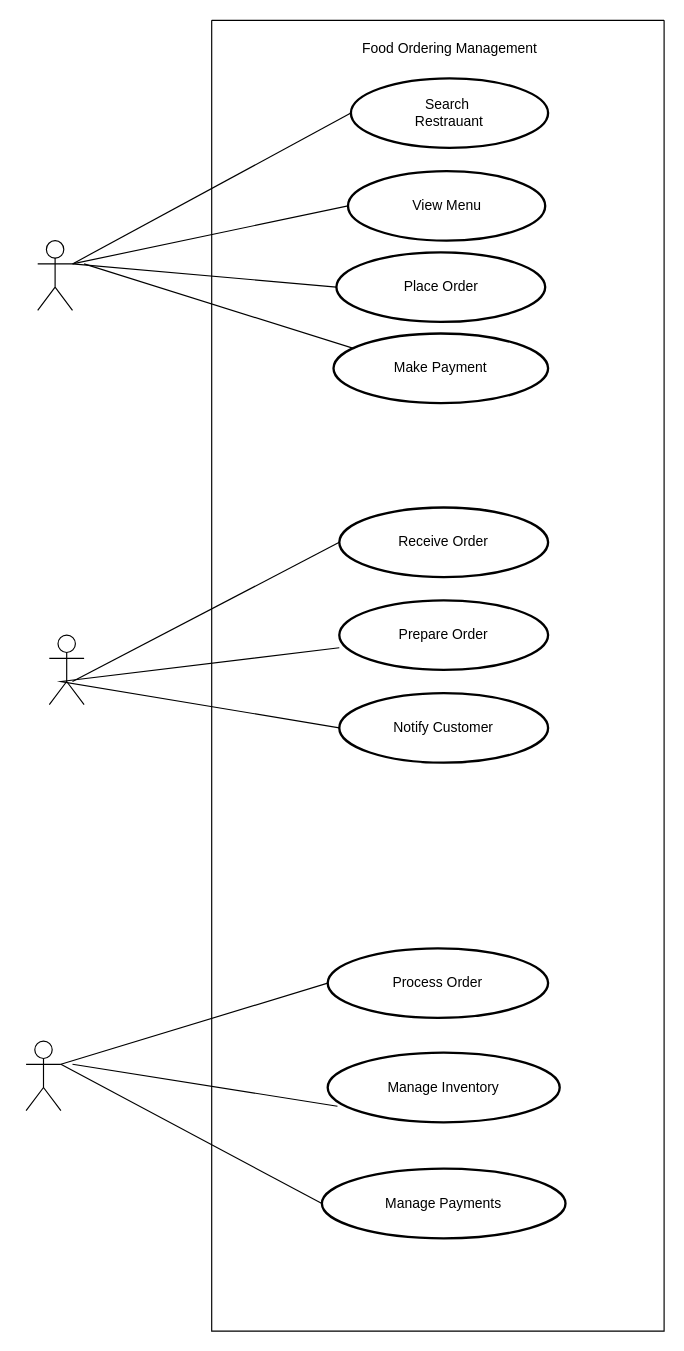
This 684x1351 diagram has some shape labels left out. Here are the shapes that lost their labels. From the top down, the centre of each, then its label:
At point (54, 275): "Customer".
At point (66, 669): "Restrauant".
At point (43, 1075): "System".
